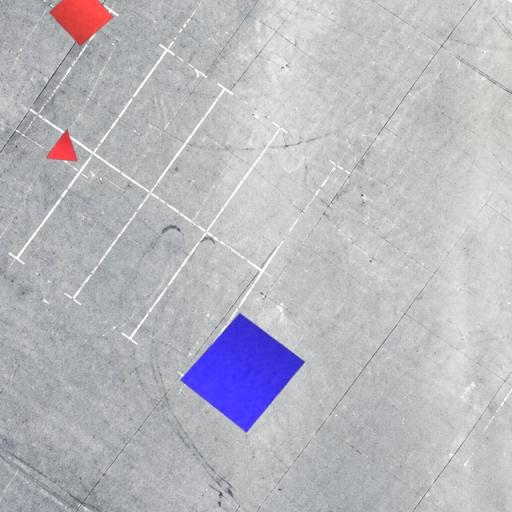BLUE_SQUARE: (180, 312, 306, 434)
RED_SQUARE: (48, 0, 114, 47)
